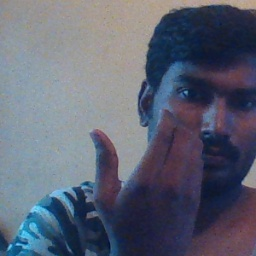U: (93, 107, 208, 239)
